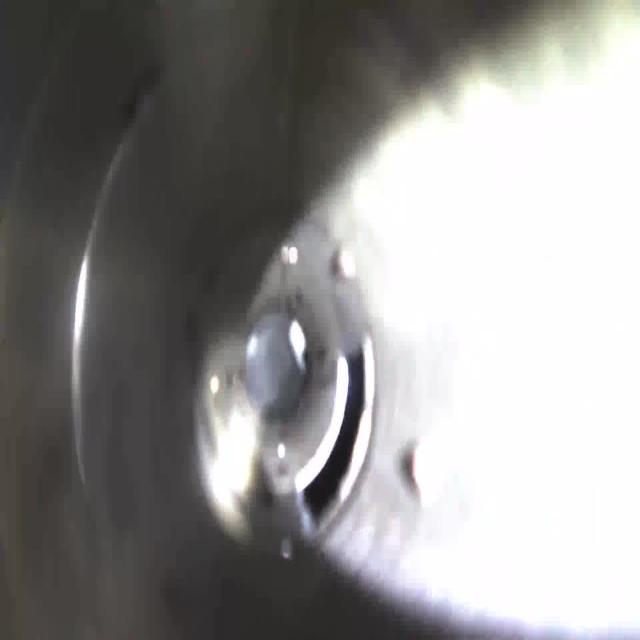hole: (294, 331, 376, 549)
